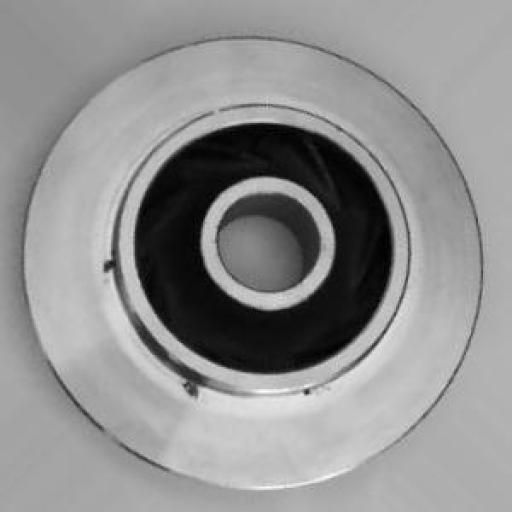defect: (100, 230, 213, 414)
